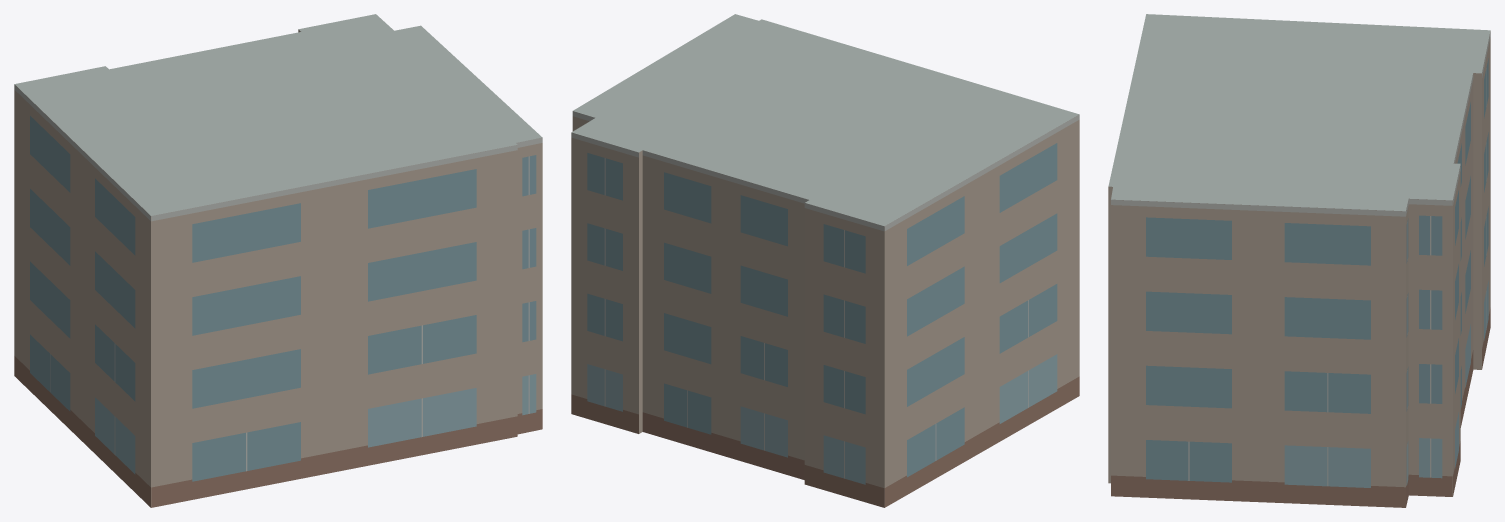
The model's file is survey-upis-32731714.glb.
3 renders of one model, left to right at view 1: azimuth 30°, elevation 25°; view 2: azimuth 150°, elevation 25°; view 3: azimuth 270°, elevation 25°, orthographic. The views are drawn at different scales.
Visible parts, largest first — view 1: survey-upis-32731714.tmp; view 2: survey-upis-32731714.tmp; view 3: survey-upis-32731714.tmp.
Boxes of the visible parts, bbox=[...] form: survey-upis-32731714.tmp: bbox=[14, 14, 542, 507]; survey-upis-32731714.tmp: bbox=[571, 14, 1079, 507]; survey-upis-32731714.tmp: bbox=[1108, 14, 1490, 507].
Bounding box in the file's own units: 18.98 × 13.3 × 15.54.
